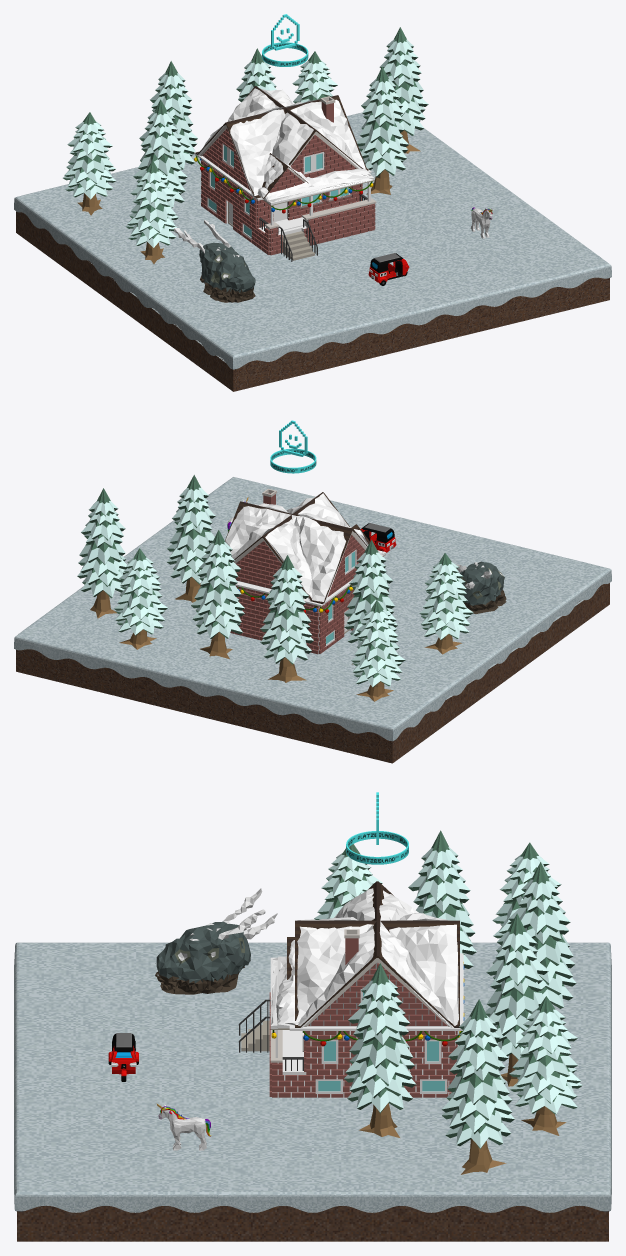
The picture shows the model from 3 angles, top to bottom: view 1: azimuth 30°, elevation 25°; view 2: azimuth 150°, elevation 25°; view 3: azimuth 270°, elevation 25°; orthographic projection. The views are drawn at different scales.
Visible parts, largest first — view 1: Cube.003, Cube.1419, OBJRANDOM_METEORITE, TYPE_PREMIUM, VEHICLES_TUC_TUC; view 2: Cube.003, Cube.1419, OBJRANDOM_METEORITE, TYPE_PREMIUM, VEHICLES_TUC_TUC; view 3: Cube.003, Cube.1419, OBJRANDOM_METEORITE, TYPE_PREMIUM, ANIMAL_UNICORNIO, VEHICLES_TUC_TUC.
Boxes of the visible parts, x1,y1,x2,y2 form: Cube.003: [14, 27, 611, 391]; Cube.1419: [194, 86, 376, 261]; OBJRANDOM_METEORITE: [174, 220, 255, 302]; TYPE_PREMIUM: [262, 14, 308, 66]; VEHICLES_TUC_TUC: [368, 253, 409, 285]; Cube.003: [14, 475, 611, 763]; Cube.1419: [225, 488, 388, 654]; OBJRANDOM_METEORITE: [456, 561, 506, 613]; TYPE_PREMIUM: [270, 420, 316, 473]; VEHICLES_TUC_TUC: [361, 523, 396, 552]; Cube.003: [14, 830, 611, 1241]; Cube.1419: [238, 881, 464, 1097]; OBJRANDOM_METEORITE: [155, 888, 277, 994]; TYPE_PREMIUM: [346, 792, 408, 864]; ANIMAL_UNICORNIO: [156, 1103, 211, 1150]; VEHICLES_TUC_TUC: [108, 1033, 138, 1081].
Bounding box in the file's own units: 4040 × 2440 × 4040.
48 materials, 4 textured.
